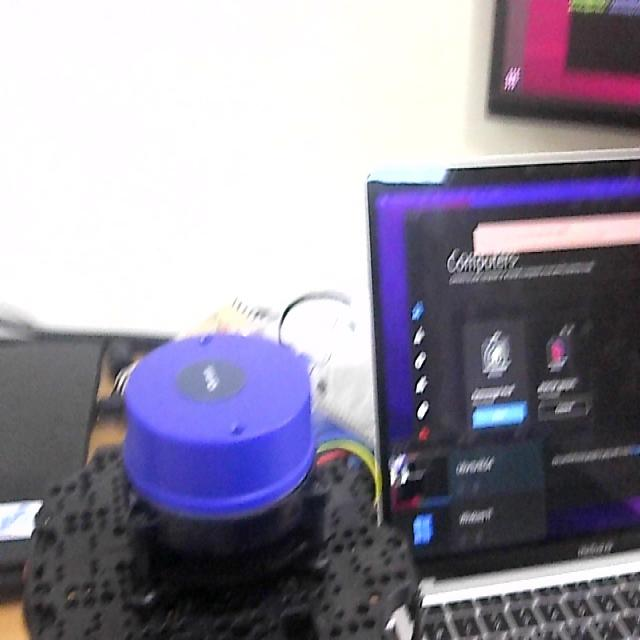turtle: (22, 329, 422, 640)
